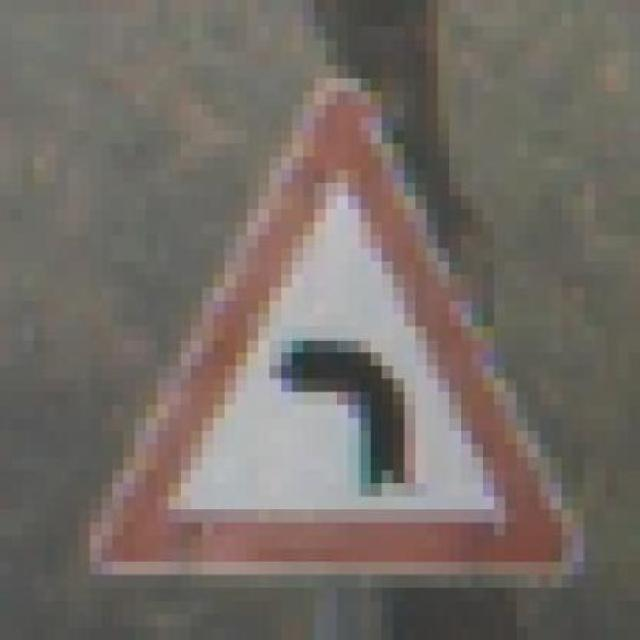Dangerous Left Curve Ahead: (79, 78, 596, 588)
